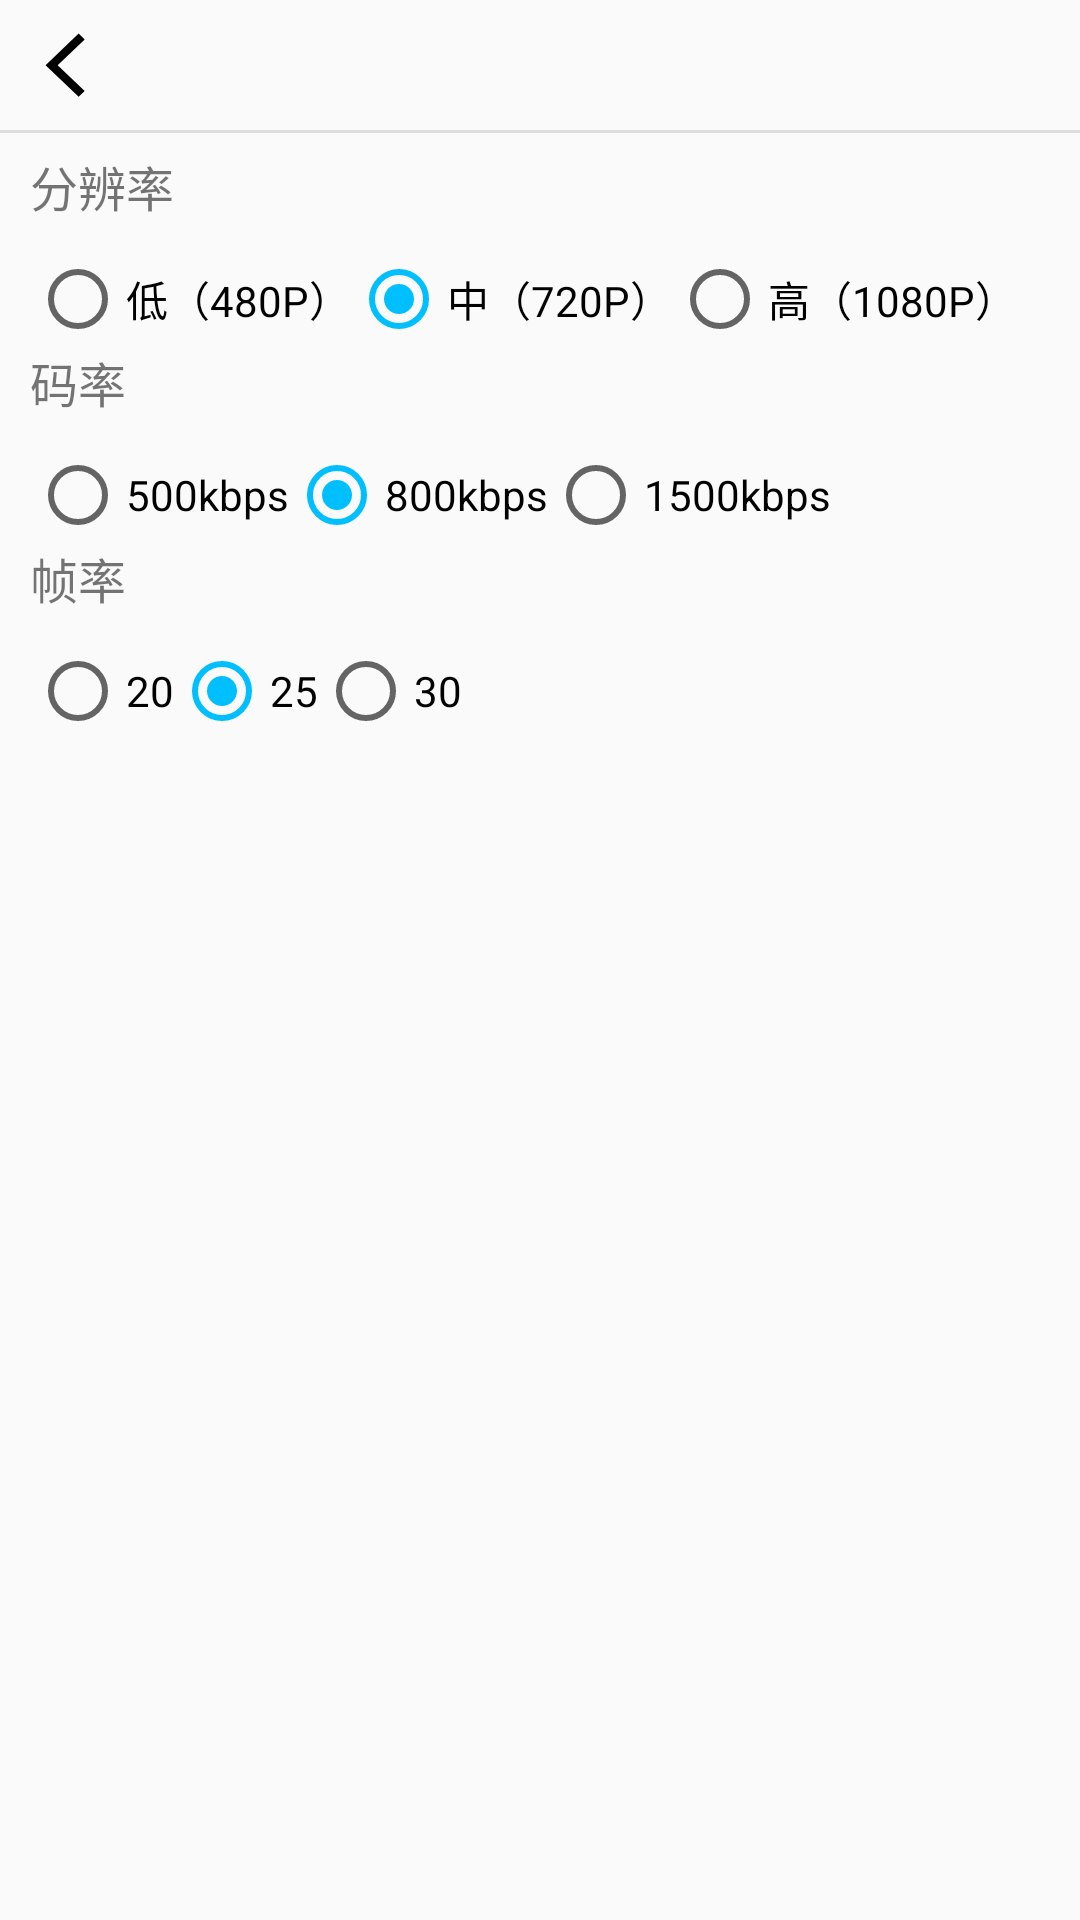

Icon click points for this 1080x1920 phone screenshot, format (x,y):
back: (65,65)
